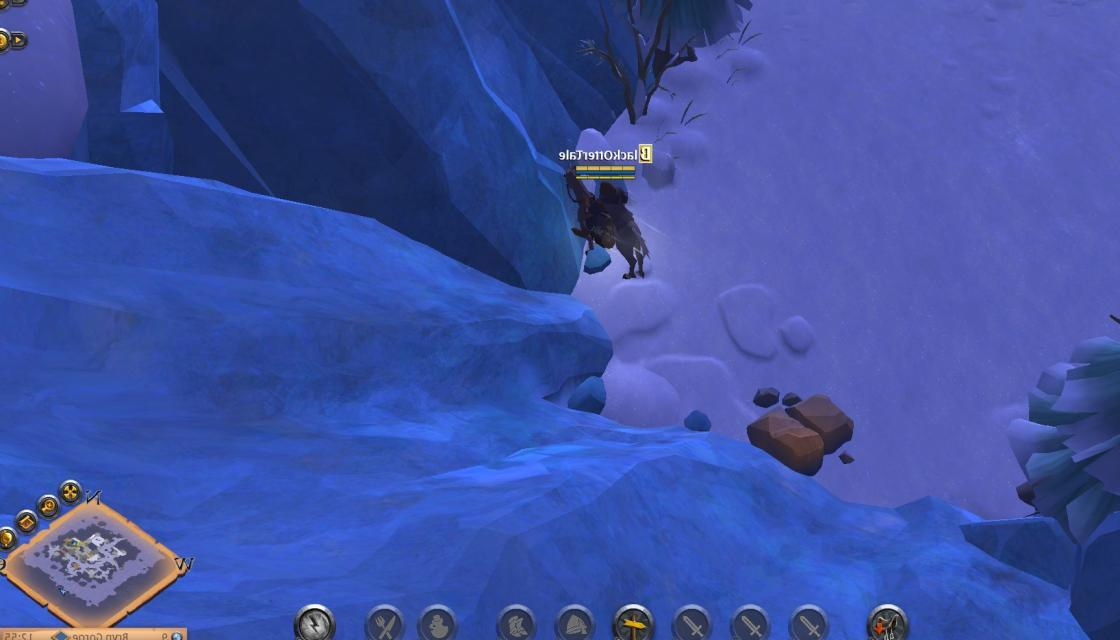limestone: (745, 386, 859, 472)
